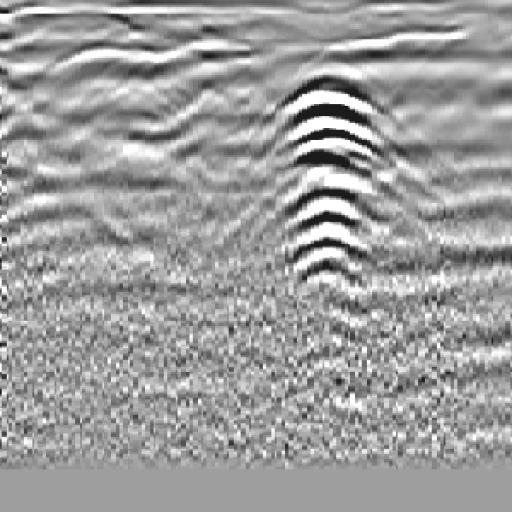metalic: (255, 48, 405, 321)
